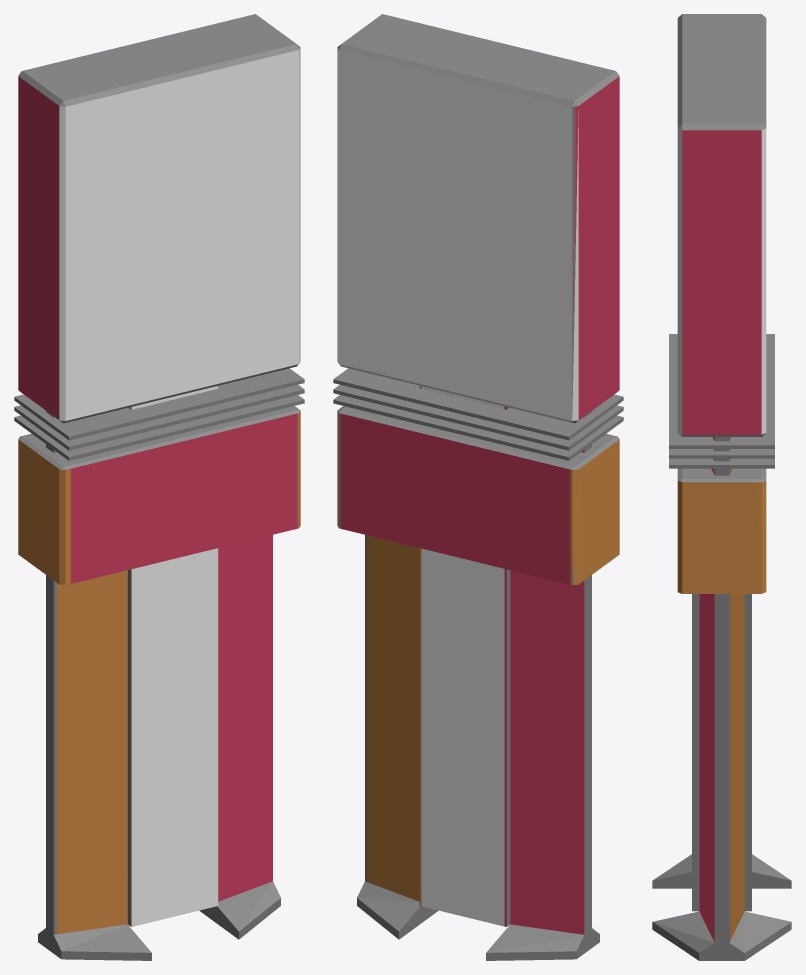
File: cartelEstacionDeServicio.DAE
The picture shows the model from 3 angles, left to right: view 1: azimuth 30°, elevation 25°; view 2: azimuth 150°, elevation 25°; view 3: azimuth 270°, elevation 25°; orthographic projection. The views are drawn at different scales.
Parts seen in each view (by area): view 1: cartelEstacionDeServicio; view 2: cartelEstacionDeServicio; view 3: cartelEstacionDeServicio.
Boxes of the visible parts, <box> form: cartelEstacionDeServicio: <box>14,14,304,960</box>; cartelEstacionDeServicio: <box>333,14,623,960</box>; cartelEstacionDeServicio: <box>652,14,791,960</box>.
Size of the model in its own units: 2.49 by 8.56 by 1.29.
